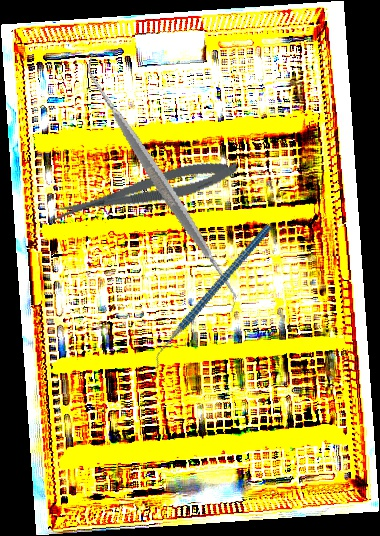Chopper: (120, 224, 305, 372)
Micro Scissor: (48, 153, 241, 227)
Spatula Surgical: (31, 53, 293, 313)
